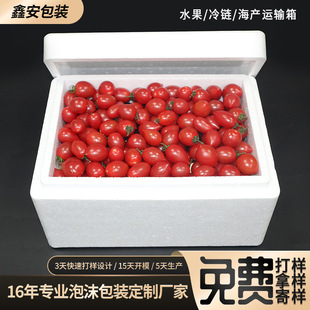Boxes: (30, 31, 280, 248)
